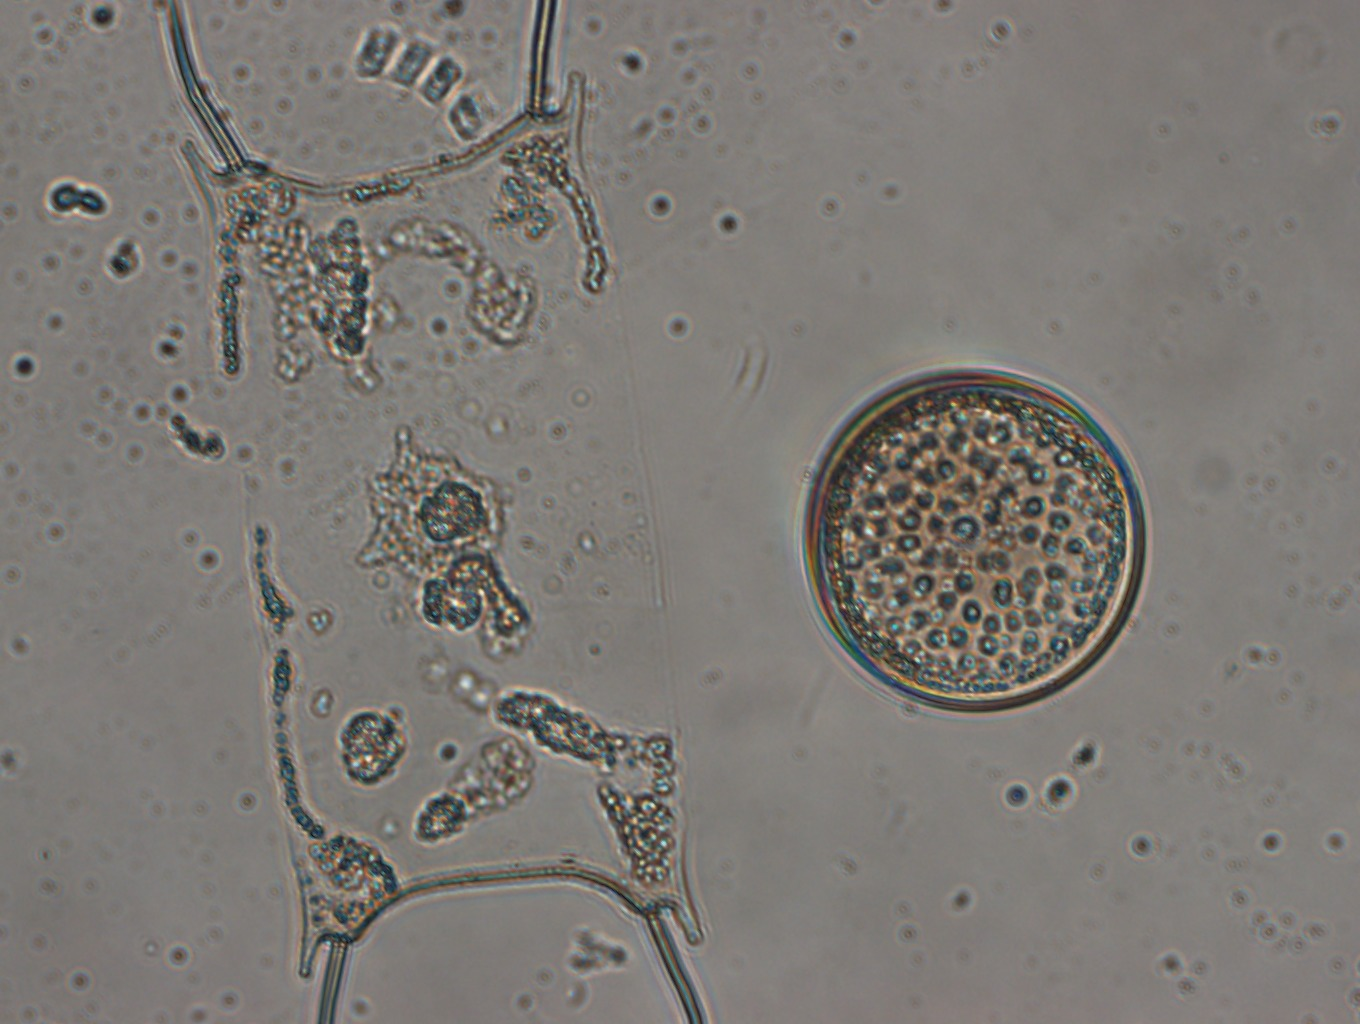biddulphia: (160, 1, 704, 1024)
coscinodiscus: (797, 364, 1149, 716)
